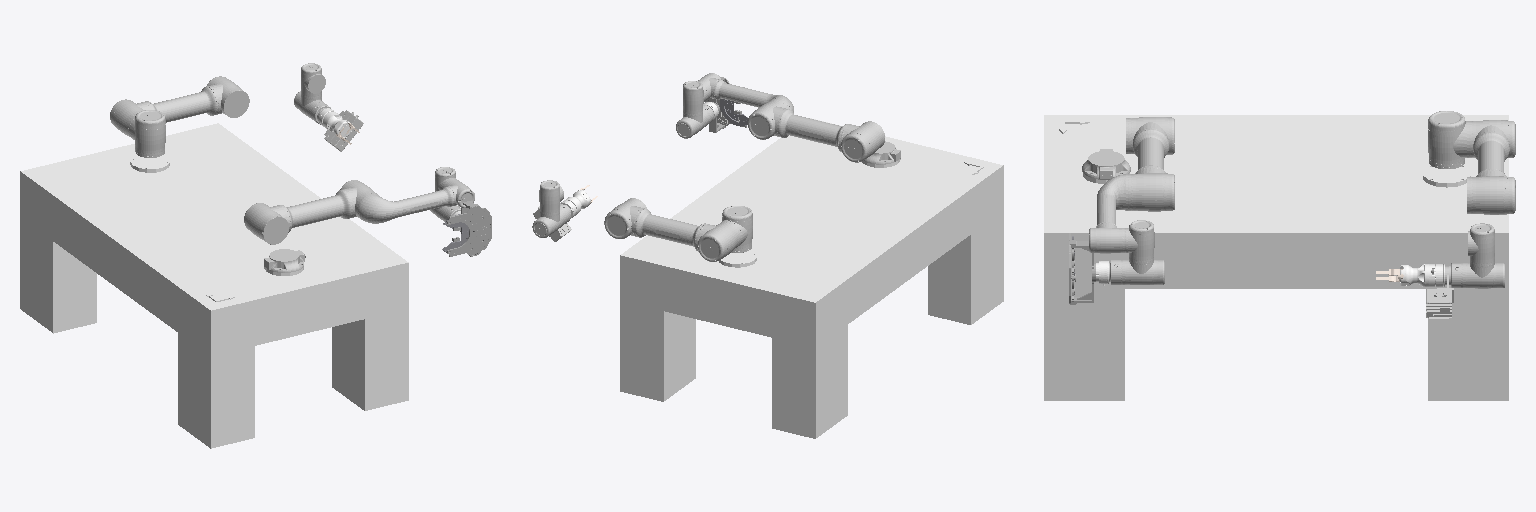
--- What the picture shows (computed from the rendered views, not written in the file) ---
The picture shows the robot from 3 angles, left to right: view 1: azimuth 30°, elevation 25°; view 2: azimuth 150°, elevation 25°; view 3: azimuth 270°, elevation 25°; orthographic projection.
Model dual_robot with 26 links and 25 joints (12 revolute, 1 continuous, 4 prismatic, 8 fixed), rooted at base_link, posed every joint at zero.
Links seen in each view (by area): view 1: base_link, right_link2, left_link2, right_link3, tool_body, left_link1, right_link0, left_link4, left_link6; view 2: base_link, right_link2, left_link2, right_link3, left_link1, left_link4, right_link4, right_link5, left_link5; view 3: base_link, left_link2, right_link2, right_link3, left_link1, left_link6, left_link4, right_link4, right_link0, left_link5, right_link5, tool_body (+1 smaller).
Boxes of the visible links, x1,y1,x2,y2 form: base_link: (20, 123, 408, 448); right_link2: (244, 180, 377, 244); left_link2: (110, 76, 249, 136); right_link3: (358, 178, 474, 223); tool_body: (447, 201, 491, 256); left_link1: (129, 110, 165, 157); right_link0: (264, 249, 305, 272); left_link4: (301, 63, 325, 99); left_link6: (311, 103, 363, 151); base_link: (620, 118, 1003, 438); right_link2: (748, 98, 884, 162); left_link2: (604, 198, 741, 261); right_link3: (698, 73, 793, 111); left_link1: (722, 206, 752, 252); left_link4: (539, 180, 563, 216); right_link4: (683, 81, 707, 116); right_link5: (676, 108, 709, 138); left_link5: (532, 208, 566, 237); base_link: (1044, 115, 1508, 400); left_link2: (1467, 120, 1515, 214); right_link2: (1126, 117, 1174, 211); right_link3: (1089, 174, 1127, 253); left_link1: (1428, 111, 1466, 168); left_link6: (1426, 263, 1460, 318); left_link4: (1468, 223, 1494, 267); right_link4: (1128, 220, 1154, 264); right_link0: (1082, 149, 1130, 179); left_link5: (1461, 263, 1504, 288); right_link5: (1121, 260, 1164, 284); tool_body: (1069, 233, 1095, 304).
Size in the robot's own frame: 1.41 by 1.52 by 0.8126 metres.
Meshes: 24 distinct files referenced, 21 mesh visuals loaded (21 binary STL); not drawn: 3 (reference not matched to a file when rendering).

URDF robot description (dual_robot):
<?xml version="1.0" ?>
<robot name="dual_robot">
    <link name="base_link">
        <!--    <inertial>-->
        <!--      <origin xyz="0.45001 0.74998 0.42961" rpy="0 0 0" />-->
        <!--      <mass value="353.69" />-->
        <!--      <inertia ixx="90.977" ixy="-0.0055919"-->
        <!--        ixz="-0.00060496" iyy="36.448"-->
        <!--        iyz="0.0010856" izz="111.92" />-->
        <!--    </inertial>-->
        <visual>
            <origin xyz="0 0 0" rpy="0 0 0" />
            <geometry>
                <mesh filename="package://robot_description/meshes/table_base.STL" />
            </geometry>
            <material name="">
                <color rgba="1 1 1 1" />
            </material>
        </visual>
        <collision>
            <origin xyz="0 0 0" rpy="0 0 0" />
            <geometry>
                <mesh filename="package://robot_description/meshes/table_base.STL" />
            </geometry>
        </collision>
        <inertial>
            <mass value="0.1" />
            <origin xyz="0 0 0" rpy="0 0 0" />
            <inertia ixx="0.03" iyy="0.03" izz="0.03" ixy="0.0" ixz="0.0" iyz="0.0" />
        </inertial>
    </link>
    <!--////////////////////////// RIGHT ARM ///////////////////////////-->
    <link name="right_link0">
        <inertial>
            <origin xyz="0.000991862282192705 -0.000192651788556533 0.0195495600981984" rpy="0 0 0" />
            <mass value="0.51639212234536" />
            <inertia ixx="0.000628942697006034" ixy="-6.29951814299122E-09" ixz="3.21122859626175E-06" iyy="0.00086768897455273" iyz="2.45009142518561E-07" izz="0.00136178777793849" />
        </inertial>
        <visual>
            <origin xyz="0 0 0" rpy="0 0 0" />
            <geometry>
                <mesh filename="package://robot_description/meshes/right_link0.STL" />
            </geometry>
            <material name="">
                <color rgba="0.847058823529412 0.847058823529412 0.847058823529412 1" />
            </material>
        </visual>
        <collision>
            <origin xyz="0 0 0" rpy="0 0 0" />
            <geometry>
                <mesh filename="package://robot_description/meshes/right_link0.STL" />
            </geometry>
        </collision>
    </link>
    <joint name="r_j0" type="fixed">
        <origin xyz="0.45 0.20023 0.615" rpy="0 0 0" />
        <parent link="base_link" />
        <child link="right_link0" />
        <axis xyz="0 0 1" />
    </joint>
    <link name="right_link1">
        <inertial>
            <origin xyz="-2.51857531862948E-07 0.00332256500839039 -0.00150902460016494" rpy="0 0 0" />
            <mass value="15.1346479444998" />
            <inertia ixx="0.0443031651788231" ixy="-2.81167524079919E-08" ixz="-4.05968268990278E-07" iyy="0.0430901762109995" iyz="1.43719449704963E-05" izz="0.0305221713846399" />
        </inertial>
        <visual>
            <origin xyz="0 0 0" rpy="0 0 0" />
            <geometry>
                <mesh filename="package://robot_description/meshes/right_link1.STL" />
            </geometry>
            <material name="">
                <color rgba="0.847058823529412 0.847058823529412 0.847058823529412 1" />
            </material>
        </visual>
        <collision>
            <origin xyz="0 0 0" rpy="0 0 0" />
            <geometry>
                <mesh filename="package://robot_description/meshes/right_link1.STL" />
            </geometry>
        </collision>
    </link>
    <joint name="r_j1" type="revolute">
        <origin xyz="0 -0.00022535 0.12015" rpy="0 0 0" />
        <parent link="right_link0" />
        <child link="right_link1" />
        <axis xyz="0 0 1" />
        <limit lower="-6.2832" upper="6.2832" effort="0" velocity="0" />
    </joint>
    <link name="right_link2">
        <inertial>
            <origin xyz="0.215000100287162 6.43173030112631E-09 -0.143146610069181" rpy="0 0 0" />
            <mass value="45.8465918633366" />
            <inertia ixx="0.1037483140575" ixy="-5.87095025796085E-08" ixz="2.54282490418091E-07" iyy="0.240121009336192" iyz="2.15483178628983E-08" izz="0.212572501503178" />
        </inertial>
        <visual>
            <origin xyz="0 0 0" rpy="0 0 0" />
            <geometry>
                <mesh filename="package://robot_description/meshes/right_link2.STL" />
            </geometry>
            <material name="">
                <color rgba="0.847058823529412 0.847058823529412 0.847058823529412 1" />
            </material>
        </visual>
        <collision>
            <origin xyz="0 0 0" rpy="0 0 0" />
            <geometry>
                <mesh filename="package://robot_description/meshes/right_link2.STL" />
            </geometry>
        </collision>
    </link>
    <joint name="r_j2" type="revolute">
        <origin xyz="0 0 0" rpy="1.5708 0 0" />
        <parent link="right_link1" />
        <child link="right_link2" />
        <axis xyz="0 0 1" />
        <limit lower="-1.4835" upper="4.6251" effort="0" velocity="0" />
    </joint>
    <link name="right_link3">
        <inertial>
            <origin xyz="0.190735496583493 -1.52687675682439E-05 -0.0106365862195597" rpy="0 0 0" />
            <mass value="18.0534564554839" />
            <inertia ixx="0.0197914204709761" ixy="6.48612971078311E-07" ixz="-0.0162800799758652" iyy="0.168630223367361" iyz="3.37641397432236E-07" izz="0.16527336838242" />
        </inertial>
        <visual>
            <origin xyz="0 0 0" rpy="0 0 0" />
            <geometry>
                <mesh filename="package://robot_description/meshes/right_link3.STL" />
            </geometry>
            <material name="">
                <color rgba="0.847058823529412 0.847058823529412 0.847058823529412 1" />
            </material>
        </visual>
        <collision>
            <origin xyz="0 0 0" rpy="0 0 0" />
            <geometry>
                <mesh filename="package://robot_description/meshes/right_link3.STL" />
            </geometry>
        </collision>
    </link>
    <joint name="r_j3" type="revolute">
        <origin xyz="0.43 0 0" rpy="0 0 0" />
        <parent link="right_link2" />
        <child link="right_link3" />
        <axis xyz="0 0 1" />
        <limit lower="-3.0543" upper="3.0543" effort="0" velocity="0" />
    </joint>
    <link name="right_link4">
        <inertial>
            <origin xyz="-1.98734804623957E-06 -0.00595118756440466 0.00267886074216198" rpy="0 0 0" />
            <mass value="5.53782702890544" />
            <inertia ixx="0.00708415707773479" ixy="1.83211236326858E-07" ixz="-2.36169851102956E-08" iyy="0.00516123063669" iyz="-0.000397739879929697" izz="0.00684324625577804" />
        </inertial>
        <visual>
            <origin xyz="0 0 0" rpy="0 0 0" />
            <geometry>
                <mesh filename="package://robot_description/meshes/right_link4.STL" />
            </geometry>
            <material name="">
                <color rgba="0.847058823529412 0.847058823529412 0.847058823529412 1" />
            </material>
        </visual>
        <collision>
            <origin xyz="0 0 0" rpy="0 0 0" />
            <geometry>
                <mesh filename="package://robot_description/meshes/right_link4.STL" />
            </geometry>
        </collision>
    </link>
    <joint name="r_j4" type="revolute">
        <origin xyz="0.3685 -1.185E-05 -0.114" rpy="0 0 0" />
        <parent link="right_link3" />
        <child link="right_link4" />
        <axis xyz="0 0 1" />
        <limit lower="-1.4835" upper="4.6251" effort="0" velocity="0" />
    </joint>
    <link name="right_link5">
        <inertial>
            <origin xyz="-1.90944871281129E-06 -0.00288907759425724 -0.00234237394169168" rpy="0 0 0" />
            <mass value="6.33394466548074" />
            <inertia ixx="0.012920396120737" ixy="-1.08659585918921E-07" ixz="5.89055789344623E-09" iyy="0.00584529345673906" iyz="4.29603782509869E-05" izz="0.0126275585433332" />
        </inertial>
        <visual>
            <origin xyz="0 0 0" rpy="0 0 0" />
            <geometry>
                <mesh filename="package://robot_description/meshes/right_link5.STL" />
            </geometry>
            <material name="">
                <color rgba="0.847058823529412 0.847058823529412 0.847058823529412 1" />
            </material>
        </visual>
        <collision>
            <origin xyz="0 0 0" rpy="0 0 0" />
            <geometry>
                <mesh filename="package://robot_description/meshes/right_link5.STL" />
            </geometry>
        </collision>
    </link>
    <joint name="r_j5" type="revolute">
        <origin xyz="0 -0.1135 0" rpy="1.5708 0 0" />
        <parent link="right_link4" />
        <child link="right_link5" />
        <axis xyz="0 0 1" />
        <limit lower="-6.2832" upper="6.2832" effort="0" velocity="0" />
    </joint>
    <link name="right_link6">
        <inertial>
            <origin xyz="2.76523161144571E-05 -1.34854737601515E-05 -0.021245060068734" rpy="0 0 0" />
            <mass value="1.41689125820954" />
            <inertia ixx="0.000713704897956402" ixy="-6.91164349011993E-07" ixz="-6.36734535410033E-07" iyy="0.00072362694039658" iyz="1.5890038073839E-06" izz="0.00112895600939514" />
        </inertial>
        <visual>
            <origin xyz="0 0 0" rpy="0 0 0" />
            <geometry>
                <mesh filename="package://robot_description/meshes/right_link6.STL" />
            </geometry>
            <material name="">
                <color rgba="0.847058823529412 0.847058823529412 0.847058823529412 1" />
            </material>
        </visual>
        <collision>
            <origin xyz="0 0 0" rpy="0 0 0" />
            <geometry>
                <mesh filename="package://robot_description/meshes/right_link6.STL" />
            </geometry>
        </collision>
    </link>
    <joint name="r_j6" type="revolute">
        <origin xyz="0 0.107 0" rpy="-1.5708 0 0" />
        <parent link="right_link5" />
        <child link="right_link6" />
        <axis xyz="0 0 1" />
        <limit lower="-6.2832" upper="6.2832" effort="0" velocity="0" />
    </joint>
    <!-- /////////////////////////////// RIGHT FORCE SENSOR ////////////////////////////// -->
    <link name="force_sensor_link">
        <inertial>
            <origin xyz="-0.00038657 0.00017956 -0.02055" rpy="0 0 0" />
            <mass value="0.12592" />
            <inertia ixx="5.6139E-05" ixy="4.6333E-07" ixz="-3.1627E-08" iyy="5.5177E-05" iyz="-1.4175E-07" izz="9.499E-05" />
        </inertial>
        <visual>
            <origin xyz="0 0 0" rpy="0 0 0" />
            <geometry>
                <mesh filename="package://robot_description/meshes/force_sensor_link.STL" />
            </geometry>
            <material name="">
                <color rgba="1 1 1 1" />
            </material>
        </visual>
        <collision>
            <origin xyz="0 0 0" rpy="0 0 0" />
            <geometry>
                <mesh filename="package://robot_description/meshes/force_sensor_link.STL" />
            </geometry>
        </collision>
    </link>
    <joint name="r_f1" type="fixed">
        <origin xyz="0.00044323 -0.00044323 0.0395" rpy="0 0 0" />
        <parent link="right_link6" />
        <child link="force_sensor_link" />
        <axis xyz="0 0 0" />
    </joint>
    <!-- /////////////////////////////// RIGHT TOOL ////////////////////////////// -->
    <link name="tool_body">
        <inertial>
            <origin xyz="0.0030549 4.2661E-07 0.047026" rpy="0 0 0" />
            <mass value="0.31958" />
            <inertia ixx="0.0011856" ixy="-1.0021E-07" ixz="2.5315E-07" iyy="0.00041875" iyz="-7.8268E-10" izz="0.0014705" />
        </inertial>
        <visual>
            <origin xyz="0 0 0" rpy="0 0 0" />
            <geometry>
                <mesh filename="package://robot_description/meshes/tool_body.STL" />
            </geometry>
            <material name="">
                <color rgba="0.74902 0.74902 0.74902 1" />
            </material>
        </visual>
        <collision>
            <origin xyz="0 0 0" rpy="0 0 0" />
            <geometry>
                <mesh filename="package://robot_description/meshes/tool_body.STL" />
            </geometry>
        </collision>
    </link>
    <joint name="r_f2" type="fixed">
        <origin xyz="-0.00044323 0.00044323 0.013" rpy="0 0 0" />
        <parent link="force_sensor_link" />
        <child link="tool_body" />
        <axis xyz="0 0 -1" />
        <limit lower="0" upper="0" effort="0" velocity="0" />
    </joint>
    <link name="screw_gear">
        <inertial>
            <origin xyz="-0.018422 -0.0011551 0.0012466" rpy="0 0 0" />
            <mass value="0.4637" />
            <inertia ixx="0.0010994" ixy="2.3876E-05" ixz="1.4588E-06" iyy="0.00058941" iyz="2.5853E-07" izz="0.0016815" />
        </inertial>
        <visual>
            <origin xyz="0 0 0" rpy="0 0 0" />
            <geometry>
                <mesh filename="package://robot_description/meshes/screw_gear.STL" />
            </geometry>
            <material name="">
                <color rgba="0.63922 0.63922 0.66275 1" />
            </material>
        </visual>
        <collision>
            <origin xyz="0 0 0" rpy="0 0 0" />
            <geometry>
                <mesh filename="package://robot_description/meshes/screw_gear.STL" />
            </geometry>
        </collision>
    </link>
    <joint name="r_c1" type="continuous">
        <origin xyz="-0.0785 0 0.0644" rpy="3.1416 0 3.1416" />
        <parent link="tool_body" />
        <child link="screw_gear" />
        <axis xyz="0 0 -1" />
    </joint>
    <!-- Screwing frame -->
    <link name="screwing_frame" />
    <joint name="screwing_frame_joint" type="fixed">
        <parent link="tool_body" />
        <child link="screwing_frame" />
        <origin xyz="-0.0785 0 0.0644" rpy="3.1416 0 3.1416" />
    </joint>
    <link name="side_left">
        <inertial>
            <origin xyz="-1.9154E-10 5.5893E-12 0.00045008" rpy="0 0 0" />
            <mass value="0.0043012" />
            <inertia ixx="1.3074E-07" ixy="6.2645E-15" ixz="4.2165E-16" iyy="3.1828E-07" iyz="6.4925E-16" izz="2.6659E-07" />
        </inertial>
        <visual>
            <origin xyz="0 0 0" rpy="0 0 0" />
            <geometry>
                <mesh filename="package://robot_description/meshes/side_left.STL" />
            </geometry>
            <material name="">
                <color rgba="0.74902 0.74902 0.74902 1" />
            </material>
        </visual>
        <collision>
            <origin xyz="0 0 0" rpy="0 0 0" />
            <geometry>
                <mesh filename="package://robot_description/meshes/side_left.STL" />
            </geometry>
        </collision>
    </link>
    <joint name="r_p1" type="prismatic">
        <origin xyz="0.0012847 -0.026778 0.0036" rpy="-1.5708 0 -3.0937" />
        <parent link="screw_gear" />
        <child link="side_left" />
        <axis xyz="0 0 -1" />
        <limit lower="0.0" upper="0.02" effort="0" velocity="0" />
    </joint>
    <link name="right_side">
        <inertial>
            <origin xyz="2.2426E-05 3.1396E-05 2.1095E-05" rpy="0 0 0" />
            <mass value="0.0042532" />
            <inertia ixx="3.0118E-07" ixy="-7.0175E-15" ixz="2.9195E-17" iyy="1.1553E-07" iyz="1.3439E-16" izz="2.6427E-07" />
        </inertial>
        <visual>
            <origin xyz="0 0 0" rpy="0 0 0" />
            <geometry>
                <mesh filename="package://robot_description/meshes/right_side.STL" />
            </geometry>
            <material name="">
                <color rgba="0.74902 0.74902 0.74902 1" />
            </material>
        </visual>
        <collision>
            <origin xyz="0 0 0" rpy="0 0 0" />
            <geometry>
                <mesh filename="package://robot_description/meshes/right_side.STL" />
            </geometry>
        </collision>
    </link>
    <!-- 4.76029 -1.5708 0   1.5708 -1.5708 -3.0937-->
    <joint name="r_p2" type="prismatic">
        <origin xyz="-0.0012847 0.026778 0.0036" rpy="1.5708 -1.5708 -3.0937" />
        <parent link="screw_gear" />
        <child link="right_side" />
        <axis xyz="0 0 1" />
        <limit lower="-0.02" upper="0.0" effort="0" velocity="0" />
    </joint>
    <!-- /////////////////////////////// LEFT ARM ////////////////////////////// -->
    <link name="left_base">
        <inertial>
            <origin xyz="0.00099186 -0.00019265 0.01955" rpy="0 0 0" />
            <mass value="0.51639" />
            <inertia ixx="0.00062894" ixy="-6.2995E-09" ixz="3.2112E-06" iyy="0.00086769" iyz="2.4501E-07" izz="0.0013618" />
        </inertial>
        <visual>
            <origin xyz="0 0 0" rpy="0 0 0" />
            <geometry>
                <mesh filename="package://robot_description/meshes/left_base.STL" />
            </geometry>
            <material name="">
                <color rgba="0.84706 0.84706 0.84706 1" />
            </material>
        </visual>
        <collision>
            <origin xyz="0 0 0" rpy="0 0 0" />
            <geometry>
                <mesh filename="package://robot_description/meshes/left_base.STL" />
            </geometry>
        </collision>
    </link>
    <joint name="l_f0" type="fixed">
        <origin xyz="0.475 1.3 0.615" rpy="0 0 0" />
        <parent link="base_link" />
        <child link="left_base" />
        <axis xyz="0 0 1" />
    </joint>
    <link name="left_link1">
        <inertial>
            <origin xyz="-2.5186E-07 0.0033226 -0.001509" rpy="0 0 0" />
            <mass value="15.135" />
            <inertia ixx="0.044303" ixy="-2.8117E-08" ixz="-4.0597E-07" iyy="0.04309" iyz="1.4372E-05" izz="0.030522" />
        </inertial>
        <visual>
            <origin xyz="0 0 0" rpy="0 0 0" />
            <geometry>
                <mesh filename="package://robot_description/meshes/left_link1.STL" />
            </geometry>
            <material name="">
                <color rgba="0.84706 0.84706 0.84706 1" />
            </material>
        </visual>
        <collision>
            <origin xyz="0 0 0" rpy="0 0 0" />
            <geometry>
                <mesh filename="package://robot_description/meshes/left_link1.STL" />
            </geometry>
        </collision>
    </link>
    <joint name="l_j1" type="revolute">
        <origin xyz="0 -0.00022535 0.12015" rpy="0 0 0" />
        <parent link="left_base" />
        <child link="left_link1" />
        <axis xyz="0 0 1" />
        <limit lower="-6.2832" upper="6.2832" effort="0" velocity="0" />
    </joint>
    <link name="left_link2">
        <inertial>
            <origin xyz="0.215 6.4317E-09 -0.14315" rpy="0 0 0" />
            <mass value="45.847" />
            <inertia ixx="0.10375" ixy="-5.871E-08" ixz="2.5428E-07" iyy="0.24012" iyz="2.1548E-08" izz="0.21257" />
        </inertial>
        <visual>
            <origin xyz="0 0 0" rpy="0 0 0" />
            <geometry>
                <mesh filename="package://robot_description/meshes/left_link2.STL" />
            </geometry>
            <material name="">
                <color rgba="0.84706 0.84706 0.84706 1" />
            </material>
        </visual>
        <collision>
            <origin xyz="0 0 0" rpy="0 0 0" />
            <geometry>
                <mesh filename="package://robot_description/meshes/left_link2.STL" />
            </geometry>
        </collision>
    </link>
    <joint name="l_j2" type="revolute">
        <origin xyz="0 0 0" rpy="1.5708 0 0" />
        <parent link="left_link1" />
        <child link="left_link2" />
        <axis xyz="0 0 1" />
        <limit lower="-1.4835" upper="4.6251" effort="0" velocity="0" />
    </joint>
    <link name="left_link3">
        <inertial>
            <origin xyz="0.19074 -1.5269E-05 -0.010637" rpy="0 0 0" />
            <mass value="18.053" />
            <inertia ixx="0.019791" ixy="6.4861E-07" ixz="-0.01628" iyy="0.16863" iyz="3.3764E-07" izz="0.16527" />
        </inertial>
        <visual>
            <origin xyz="0 0 0" rpy="0 0 0" />
            <geometry>
                <mesh filename="package://robot_description/meshes/left_link3.STL" />
            </geometry>
            <material name="">
                <color rgba="0.84706 0.84706 0.84706 1" />
            </material>
        </visual>
        <collision>
            <origin xyz="0 0 0" rpy="0 0 0" />
            <geometry>
                <mesh filename="package://robot_description/meshes/left_link3.STL" />
            </geometry>
        </collision>
    </link>
    <joint name="l_j3" type="revolute">
        <origin xyz="0.43 0 0" rpy="0 0 0" />
        <parent link="left_link2" />
        <child link="left_link3" />
        <axis xyz="0 0 1" />
        <limit lower="-3.0543" upper="3.0543" effort="0" velocity="0" />
    </joint>
    <link name="left_link4">
        <inertial>
            <origin xyz="-1.9873E-06 -0.0059512 0.0026789" rpy="0 0 0" />
            <mass value="5.5378" />
            <inertia ixx="0.0070842" ixy="1.8321E-07" ixz="-2.3617E-08" iyy="0.0051612" iyz="-0.00039774" izz="0.0068432" />
        </inertial>
        <visual>
            <origin xyz="0 0 0" rpy="0 0 0" />
            <geometry>
                <mesh filename="package://robot_description/meshes/left_link4.STL" />
            </geometry>
            <material name="">
                <color rgba="0.84706 0.84706 0.84706 1" />
            </material>
        </visual>
        <collision>
            <origin xyz="0 0 0" rpy="0 0 0" />
            <geometry>
                <mesh filename="package://robot_description/meshes/left_link4.STL" />
            </geometry>
        </collision>
    </link>
    <joint name="l_j4" type="revolute">
        <origin xyz="0.3685 -1.185E-05 -0.114" rpy="0 0 0" />
        <parent link="left_link3" />
        <child link="left_link4" />
        <axis xyz="0 0 1" />
        <limit lower="-1.4835" upper="4.6251" effort="0" velocity="0" />
    </joint>
    <link name="left_link5">
        <inertial>
            <origin xyz="-1.9094E-06 -0.0028891 -0.0023424" rpy="0 0 0" />
            <mass value="6.3339" />
            <inertia ixx="0.01292" ixy="-1.0866E-07" ixz="5.8906E-09" iyy="0.0058453" iyz="4.296E-05" izz="0.012628" />
        </inertial>
        <visual>
            <origin xyz="0 0 0" rpy="0 0 0" />
            <geometry>
                <mesh filename="package://robot_description/meshes/left_link5.STL" />
            </geometry>
            <material name="">
                <color rgba="0.84706 0.84706 0.84706 1" />
            </material>
        </visual>
        <collision>
            <origin xyz="0 0 0" rpy="0 0 0" />
            <geometry>
                <mesh filename="package://robot_description/meshes/left_link5.STL" />
            </geometry>
        </collision>
    </link>
    <joint name="l_j5" type="revolute">
        <origin xyz="0 -0.1135 0" rpy="1.5708 0 0" />
        <parent link="left_link4" />
        <child link="left_link5" />
        <axis xyz="0 0 1" />
        <limit lower="-6.2832" upper="6.2832" effort="0" velocity="0" />
    </joint>
    <link name="left_link6">
        <inertial>
            <origin xyz="0.018424 -0.018363 -0.006442" rpy="0 0 0" />
            <mass value="2.0327" />
            <inertia ixx="0.0016292" ixy="-0.00040439" ixz="-8.2865E-06" iyy="0.0016369" iyz="5.7271E-06" izz="0.0023061" />
        </inertial>
        <visual>
            <origin xyz="0 0 0" rpy="0 0 0" />
            <geometry>
                <mesh filename="package://robot_description/meshes/left_link6.STL" />
            </geometry>
            <material name="">
                <color rgba="0.84706 0.84706 0.84706 1" />
            </material>
        </visual>
        <collision>
            <origin xyz="0 0 0" rpy="0 0 0" />
            <geometry>
                <mesh filename="package://robot_description/meshes/left_link6.STL" />
            </geometry>
        </collision>
    </link>
    <joint name="l_j6" type="revolute">
        <origin xyz="0 0.107 0" rpy="-1.5708 0 0" />
        <parent link="left_link5" />
        <child link="left_link6" />
        <axis xyz="0 0 1" />
        <limit lower="-6.2832" upper="6.2832" effort="0" velocity="0" />
    </joint>
    <!-- /////////////////////////////// LEFT FORCE SENSOR ////////////////////////////// -->
    <link name="left_force_sensor">
        <inertial>
            <origin xyz="8.0746E-05 -0.00026203 -0.019289" rpy="0 0 0" />
            <mass value="0.11446" />
            <inertia ixx="4.8516E-05" ixy="4.0588E-07" ixz="-3.1202E-09" iyy="4.7634E-05" iyz="-1.3601E-07" izz="8.3802E-05" />
        </inertial>
        <visual>
            <origin xyz="0 0 0" rpy="0 0 0" />
            <geometry>
                <mesh filename="package://robot_description/meshes/left_force_sensor.STL" />
            </geometry>
            <material name="">
                <color rgba="1 1 1 1" />
            </material>
        </visual>
        <collision>
            <origin xyz="0 0 0" rpy="0 0 0" />
            <geometry>
                <mesh filename="package://robot_description/meshes/left_force_sensor.STL" />
            </geometry>
        </collision>
    </link>
    <joint name="l_f1" type="fixed">
        <origin xyz="0 0 0.0495" rpy="0 0 0" />
        <parent link="left_link6" />
        <child link="left_force_sensor" />
        <axis xyz="0 0 0" />
    </joint>
    <!-- /////////////////////////////// LEFT GRIPPER ////////////////////////////// -->
    <link name="gripper_body">
        <inertial>
            <origin xyz="2.2506E-05 -0.00012911 0.050935" rpy="0 0 0" />
            <mass value="0.34315" />
            <inertia ixx="0.00027737" ixy="-1.2904E-08" ixz="-3.9996E-09" iyy="0.00027899" iyz="4.6683E-07" izz="0.00020334" />
        </inertial>
        <visual>
            <origin xyz="0 0 0" rpy="0 0 0" />
            <geometry>
                <mesh filename="package://robot_description/meshes/gripper_body.STL" />
            </geometry>
            <material name="">
                <color rgba="1 1 1 1" />
            </material>
        </visual>
        <collision>
            <origin xyz="0 0 0" rpy="0 0 0" />
            <geometry>
                <mesh filename="package://robot_description/meshes/gripper_body.STL" />
            </geometry>
        </collision>
    </link>
    <joint name="l_f2" type="fixed">
        <origin xyz="0 0 0" rpy="0 0 -0.7854" />
        <parent link="left_force_sensor" />
        <child link="gripper_body" />
        <axis xyz="0 0 -1" />
    </joint>
    <link name="left_gripper">
        <inertial>
            <origin xyz="-0.029434 0.0072389 -0.0025796" rpy="0 0 0" />
            <mass value="0.013412" />
            <inertia ixx="2.7117E-06" ixy="1.3242E-06" ixz="-1.3506E-06" iyy="5.8064E-06" iyz="7.0318E-07" izz="4.9781E-06" />
        </inertial>
        <visual>
            <origin xyz="0 0 0" rpy="0 0 0" />
            <geometry>
                <mesh filename="package://robot_description/meshes/left_gripper.STL" />
            </geometry>
            <material name="">
                <color rgba="1 0.94902 0.9098 1" />
            </material>
        </visual>
        <collision>
            <origin xyz="0 0 0" rpy="0 0 0" />
            <geometry>
                <mesh filename="package://robot_description/meshes/left_gripper.STL" />
            </geometry>
        </collision>
    </link>
    <joint name="l_p1" type="prismatic">
        <origin xyz="0 -0.025 0.14678" rpy="1.5708 -1.5708 0" />
        <parent link="gripper_body" />
        <child link="left_gripper" />
        <axis xyz="0 0 -1" />
        <limit lower="0.0" upper="0.025" effort="0" velocity="0" />
    </joint>
    <link name="right_gripper">
        <inertial>
            <origin xyz="0.0072589 -0.029434 0.0025796" rpy="0 0 0" />
            <mass value="0.013412" />
            <inertia ixx="5.8064E-06" ixy="1.3242E-06" ixz="-7.0318E-07" iyy="2.7117E-06" iyz="1.3506E-06" izz="4.9781E-06" />
        </inertial>
        <visual>
            <origin xyz="0 0 0" rpy="0 0 0" />
            <geometry>
                <mesh filename="package://robot_description/meshes/right_gripper.STL" />
            </geometry>
            <material name="">
                <color rgba="1 0.94902 0.9098 1" />
            </material>
        </visual>
        <collision>
            <origin xyz="0 0 0" rpy="0 0 0" />
            <geometry>
                <mesh filename="package://robot_description/meshes/right_gripper.STL" />
            </geometry>
        </collision>
    </link>
    <joint name="l_p2" type="prismatic">
        <origin xyz="0 0.025 0.14678" rpy="1.5708 0 0" />
        <parent link="gripper_body" />
        <child link="right_gripper" />
        <axis xyz="0 0 -1" />
        <limit lower="-0.025" upper="0.0" effort="0" velocity="0" />
    </joint>
    <!-- Grasping frame -->
    <link name="grasping_frame" />
    <joint name="grasping_frame_joint" type="fixed">
        <parent link="left_force_sensor" />
        <child link="grasping_frame" />
        <origin xyz="0 0 0.183" rpy="0 0 0.7854" />
    </joint>
    <transmission name="trans_r_j1">
        <type>transmission_interface/SimpleTransmission</type>
        <joint name="r_j1">
            <hardwareInterface>hardware_interface/EffortJointInterface</hardwareInterface>
        </joint>
        <actuator name="r_j1_motor">
            <hardwareInterface>hardware_interface/EffortJointInterface</hardwareInterface>
            <mechanicalReduction>1</mechanicalReduction>
        </actuator>
    </transmission>
    <transmission name="trans_r_j2">
        <type>transmission_interface/SimpleTransmission</type>
        <joint name="r_j2">
            <hardwareInterface>hardware_interface/EffortJointInterface</hardwareInterface>
        </joint>
        <actuator name="r_j2_motor">
            <hardwareInterface>hardware_interface/EffortJointInterface</hardwareInterface>
            <mechanicalReduction>1</mechanicalReduction>
        </actuator>
    </transmission>
    <transmission name="trans_r_j3">
        <type>transmission_interface/SimpleTransmission</type>
        <joint name="r_j3">
            <hardwareInterface>hardware_interface/EffortJointInterface</hardwareInterface>
        </joint>
        <actuator name="r_j3_motor">
            <hardwareInterface>hardware_interface/EffortJointInterface</hardwareInterface>
            <mechanicalReduction>1</mechanicalReduction>
        </actuator>
    </transmission>
    <transmission name="trans_r_j4">
        <type>transmission_interface/SimpleTransmission</type>
        <joint name="r_j4">
            <hardwareInterface>hardware_interface/EffortJointInterface</hardwareInterface>
        </joint>
        <actuator name="r_j4_motor">
            <hardwareInterface>hardware_interface/EffortJointInterface</hardwareInterface>
            <mechanicalReduction>1</mechanicalReduction>
        </actuator>
    </transmission>
    <transmission name="trans_r_j5">
        <type>transmission_interface/SimpleTransmission</type>
        <joint name="r_j5">
            <hardwareInterface>hardware_interface/EffortJointInterface</hardwareInterface>
        </joint>
        <actuator name="r_j5_motor">
            <hardwareInterface>hardware_interface/EffortJointInterface</hardwareInterface>
            <mechanicalReduction>1</mechanicalReduction>
        </actuator>
    </transmission>
    <transmission name="trans_r_j6">
        <type>transmission_interface/SimpleTransmission</type>
        <joint name="r_j6">
            <hardwareInterface>hardware_interface/EffortJointInterface</hardwareInterface>
        </joint>
        <actuator name="r_j6_motor">
            <hardwareInterface>hardware_interface/EffortJointInterface</hardwareInterface>
            <mechanicalReduction>1</mechanicalReduction>
        </actuator>
    </transmission>
    <transmission name="trans_r_c1">
        <type>transmission_interface/SimpleTransmission</type>
        <joint name="r_c1">
            <hardwareInterface>hardware_interface/EffortJointInterface</hardwareInterface>
        </joint>
        <actuator name="r_c1_motor">
            <hardwareInterface>hardware_interface/EffortJointInterface</hardwareInterface>
            <mechanicalReduction>1</mechanicalReduction>
        </actuator>
    </transmission>
    <transmission name="trans_r_p1">
        <type>transmission_interface/SimpleTransmission</type>
        <joint name="r_p1">
            <hardwareInterface>hardware_interface/EffortJointInterface</hardwareInterface>
        </joint>
        <actuator name="r_p1_motor">
            <hardwareInterface>hardware_interface/EffortJointInterface</hardwareInterface>
            <mechanicalReduction>1</mechanicalReduction>
        </actuator>
    </transmission>
    <transmission name="trans_r_p2">
        <type>transmission_interface/SimpleTransmission</type>
        <joint name="r_p2">
            <hardwareInterface>hardware_interface/EffortJointInterface</hardwareInterface>
        </joint>
        <actuator name="r_p2_motor">
            <hardwareInterface>hardware_interface/EffortJointInterface</hardwareInterface>
            <mechanicalReduction>1</mechanicalReduction>
        </actuator>
    </transmission>
    <transmission name="trans_l_j1">
        <type>transmission_interface/SimpleTransmission</type>
        <joint name="l_j1">
            <hardwareInterface>hardware_interface/EffortJointInterface</hardwareInterface>
        </joint>
        <actuator name="l_j1_motor">
            <hardwareInterface>hardware_interface/EffortJointInterface</hardwareInterface>
            <mechanicalReduction>1</mechanicalReduction>
        </actuator>
    </transmission>
    <transmission name="trans_l_j2">
        <type>transmission_interface/SimpleTransmission</type>
        <joint name="l_j2">
            <hardwareInterface>hardware_interface/EffortJointInterface</hardwareInterface>
        </joint>
        <actuator name="l_j2_motor">
            <hardwareInterface>hardware_interface/EffortJointInterface</hardwareInterface>
            <mechanicalReduction>1</mechanicalReduction>
        </actuator>
    </transmission>
    <transmission name="trans_l_j3">
        <type>transmission_interface/SimpleTransmission</type>
        <joint name="l_j3">
            <hardwareInterface>hardware_interface/EffortJointInterface</hardwareInterface>
        </joint>
        <actuator name="l_j3_motor">
            <hardwareInterface>hardware_interface/EffortJointInterface</hardwareInterface>
            <mechanicalReduction>1</mechanicalReduction>
        </actuator>
    </transmission>
    <transmission name="trans_l_j4">
        <type>transmission_interface/SimpleTransmission</type>
        <joint name="l_j4">
            <hardwareInterface>hardware_interface/EffortJointInterface</hardwareInterface>
        </joint>
        <actuator name="l_j4_motor">
            <hardwareInterface>hardware_interface/EffortJointInterface</hardwareInterface>
            <mechanicalReduction>1</mechanicalReduction>
        </actuator>
    </transmission>
    <transmission name="trans_l_j5">
        <type>transmission_interface/SimpleTransmission</type>
        <joint name="l_j5">
            <hardwareInterface>hardware_interface/EffortJointInterface</hardwareInterface>
        </joint>
        <actuator name="l_j5_motor">
            <hardwareInterface>hardware_interface/EffortJointInterface</hardwareInterface>
            <mechanicalReduction>1</mechanicalReduction>
        </actuator>
    </transmission>
    <transmission name="trans_l_j6">
        <type>transmission_interface/SimpleTransmission</type>
        <joint name="l_j6">
            <hardwareInterface>hardware_interface/EffortJointInterface</hardwareInterface>
        </joint>
        <actuator name="l_j6_motor">
            <hardwareInterface>hardware_interface/EffortJointInterface</hardwareInterface>
            <mechanicalReduction>1</mechanicalReduction>
        </actuator>
    </transmission>
    <transmission name="trans_l_p1">
        <type>transmission_interface/SimpleTransmission</type>
        <joint name="l_p1">
            <hardwareInterface>hardware_interface/EffortJointInterface</hardwareInterface>
        </joint>
        <actuator name="l_p1_motor">
            <hardwareInterface>hardware_interface/EffortJointInterface</hardwareInterface>
            <mechanicalReduction>1</mechanicalReduction>
        </actuator>
    </transmission>
    <transmission name="trans_l_p2">
        <type>transmission_interface/SimpleTransmission</type>
        <joint name="l_p2">
            <hardwareInterface>hardware_interface/EffortJointInterface</hardwareInterface>
        </joint>
        <actuator name="l_p2_motor">
            <hardwareInterface>hardware_interface/EffortJointInterface</hardwareInterface>
            <mechanicalReduction>1</mechanicalReduction>
        </actuator>
    </transmission>
    <gazebo>
        <plugin name="gazebo_ros_control">
            <robotNamespace>/</robotNamespace>
        </plugin>
    </gazebo>
</robot>
<!--  <link name="left_arm_site">-->
<!--    <inertial>-->
<!--      <origin-->
<!--        xyz="1.89084858881472E-15 0 0.0025"-->
<!--        rpy="0 0 0" />-->
<!--      <mass-->
<!--        value="0.0967610537305656" />-->
<!--      <inertia-->
<!--        ixx="0.000150034509379303"-->
<!--        ixy="-2.1713491079517E-21"-->
<!--        ixz="-2.58493941422821E-24"-->
<!--        iyy="0.000150034509379302"-->
<!--        iyz="-1.29246970711411E-24"-->
<!--        izz="0.000299665847701394" />-->
<!--    </inertial>-->
<!--    <visual>-->
<!--      <origin-->
<!--        xyz="0 0 0"-->
<!--        rpy="0 0 0" />-->
<!--      <geometry>-->
<!--        <mesh-->
<!--          filename="package://robot_description/meshes/left_arm_site.STL" />-->
<!--      </geometry>-->
<!--      <material-->
<!--        name="">-->
<!--        <color-->
<!--          rgba="1 1 1 1" />-->
<!--      </material>-->
<!--    </visual>-->
<!--    <collision>-->
<!--      <origin-->
<!--        xyz="0 0 0"-->
<!--        rpy="0 0 0" />-->
<!--      <geometry>-->
<!--        <mesh-->
<!--          filename="package://robot_description/meshes/left_arm_site.STL" />-->
<!--      </geometry>-->
<!--    </collision>-->
<!--  </link>-->
<!--  <joint name="l_f0" type="fixed">-->
<!--    <origin xyz="0.475 1.3 0.615" rpy="0 0 0" />-->
<!--    <parent link="table_base" />-->
<!--    <child link="left_arm_site" />-->
<!--    <axis xyz="0 0 1" />-->
<!--  </joint>-->
